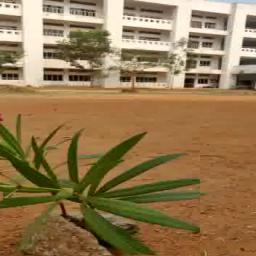OLEANDER: (0, 114, 201, 256)
